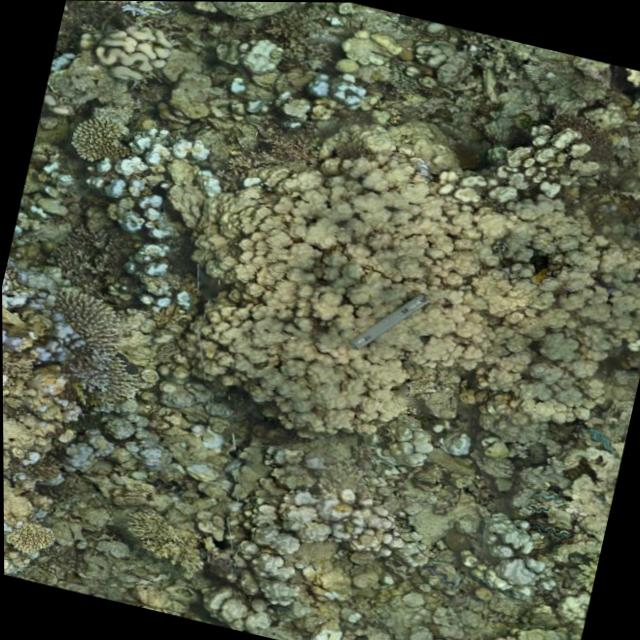Bleached Coral: (97, 1, 172, 23)
